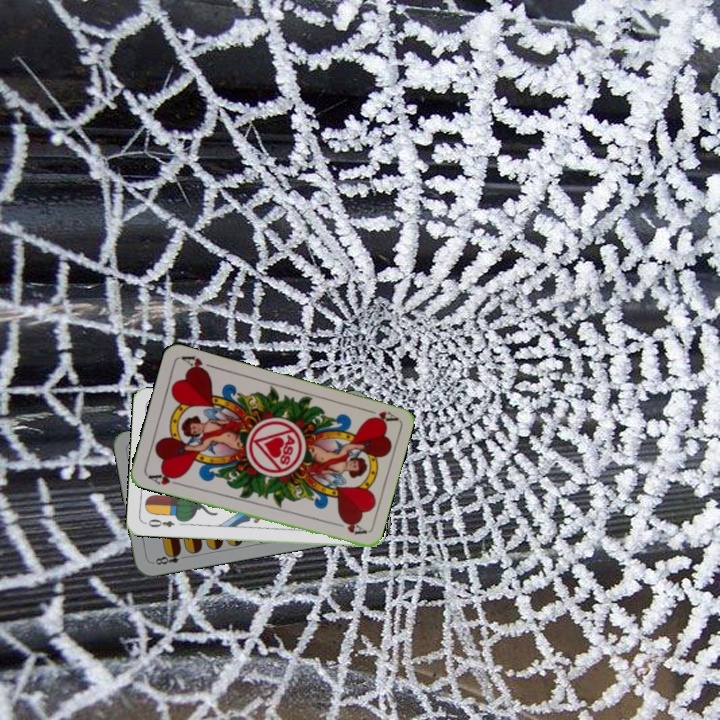E8: (149, 547, 189, 567)
EO: (141, 515, 177, 530)
HA: (359, 404, 399, 426), (144, 468, 184, 488)
